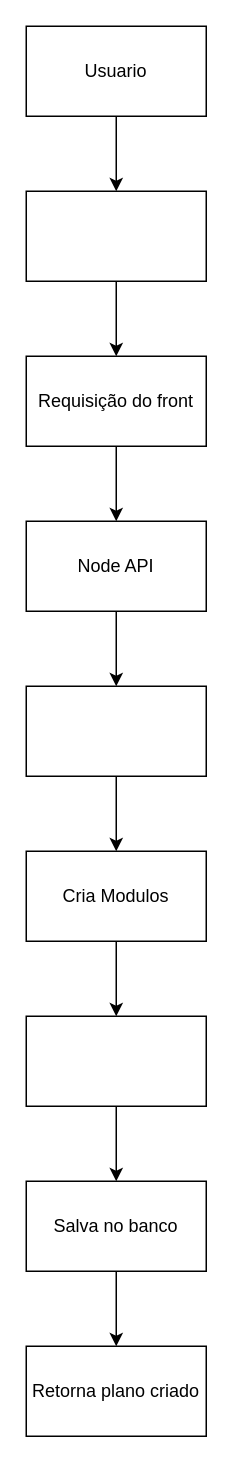
Image size: 233x1463. Some labels were removed from this diagram. The shapes that lost their labels are listed below. From the top down, each one's centre as x and y in pixels, then its label:
At (115,235): "linguagem".
At (115,730): "Cria Plano de estudos".
At (115,1060): "Cria Tarefas".
